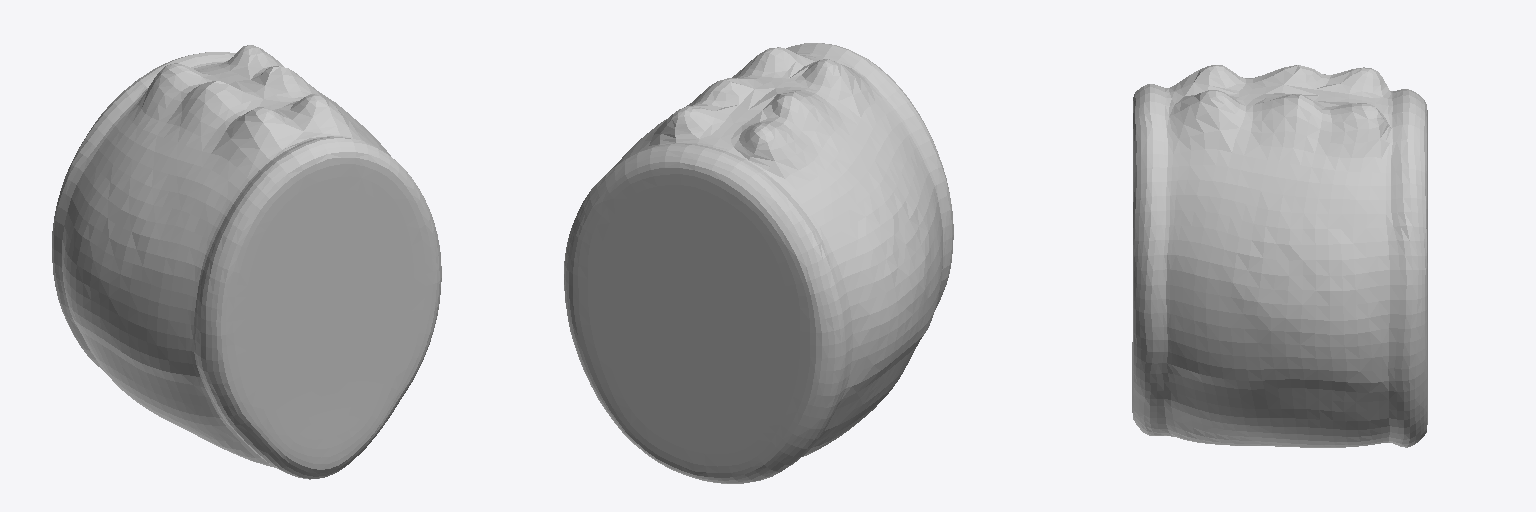
The model's file is Dragon-mid-low.OBJ.
3 views of the same model, side by side, from view 1: azimuth 30°, elevation 25°; view 2: azimuth 150°, elevation 25°; view 3: azimuth 270°, elevation 25° (orthographic).
Parts seen in each view (by area): view 1: Mid_low; view 2: Mid_low; view 3: Mid_low.
Boxes of the visible parts, x1,y1,x2,y2 form: Mid_low: [52, 45, 441, 479]; Mid_low: [564, 43, 953, 483]; Mid_low: [1132, 65, 1427, 447].
Bounding box in the file's own units: 5.81 × 6.33 × 4.78.